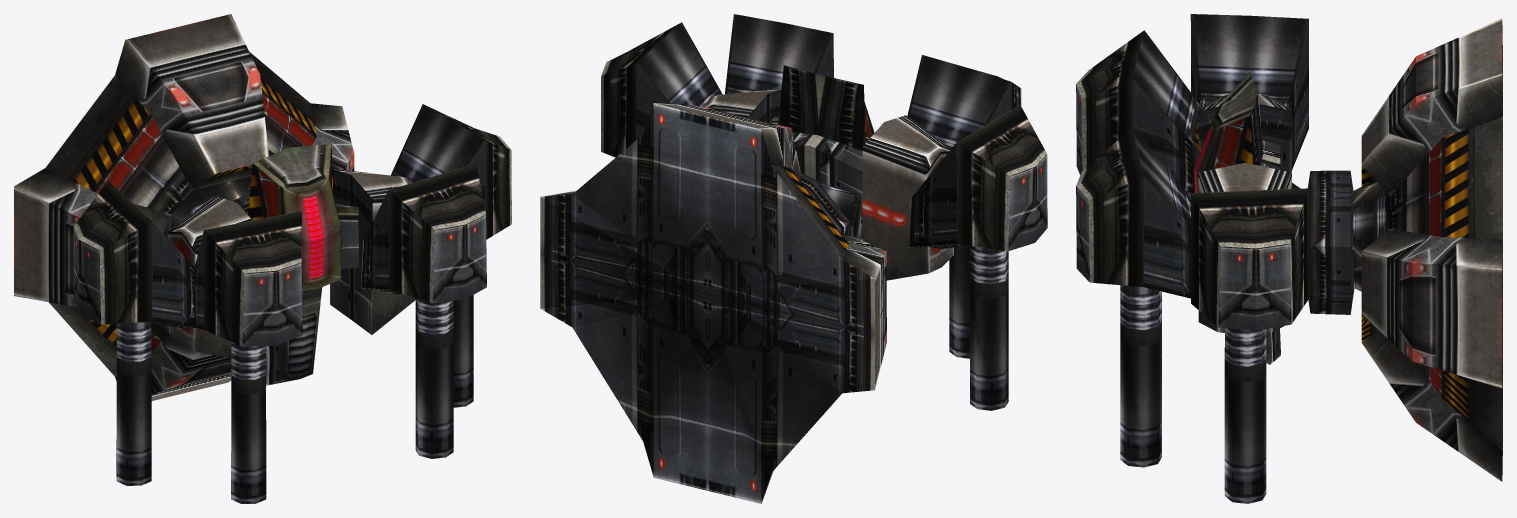
The model's file is turret-06.obj.
3 views of the same model, side by side, from view 1: azimuth 30°, elevation 25°; view 2: azimuth 150°, elevation 25°; view 3: azimuth 270°, elevation 25° (orthographic). The views are drawn at different scales.
Visible parts, largest first — view 1: turret_06; view 2: turret_06; view 3: turret_06.
Part boxes in pixels (left/top/right/bottom): turret_06: left=14, top=14, right=511, bottom=503; turret_06: left=540, top=14, right=1047, bottom=503; turret_06: left=1076, top=14, right=1502, bottom=503.
Size of the model in its own units: 5.74 by 4.79 by 4.56.
Materials: 1 (1 with a texture image).
